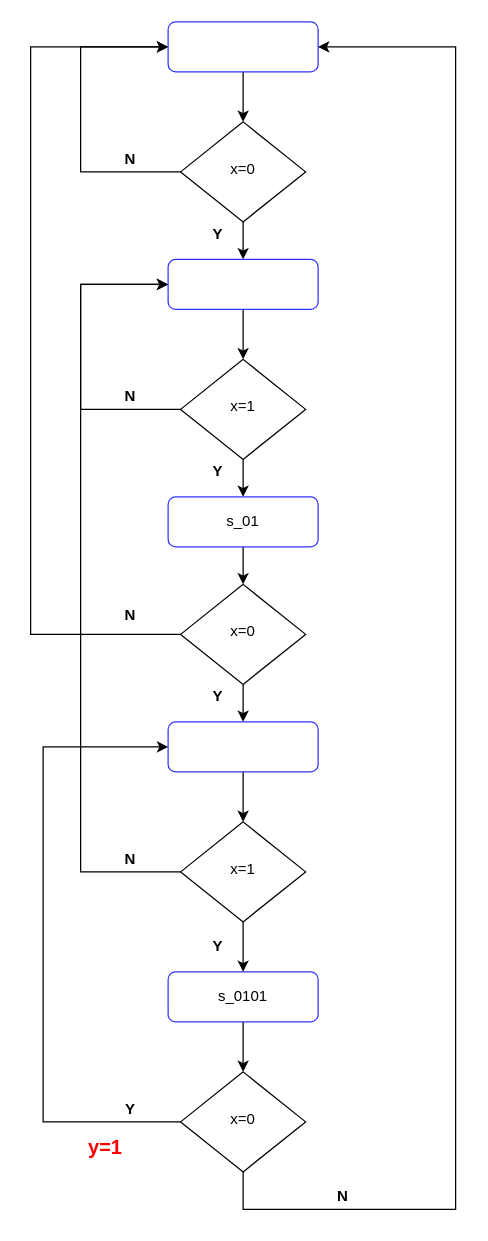
The diagram is 488 pixels wide and 1241 high, and some of its shapes have lost their labels. The shapes that lost their labels are listed below. From the top down, each one's box as (x1, y1, x2, y2) in pixels, then its label:
(167, 21, 318, 72): IDLE
(167, 258, 318, 309): s_0
(167, 721, 318, 772): s_010
